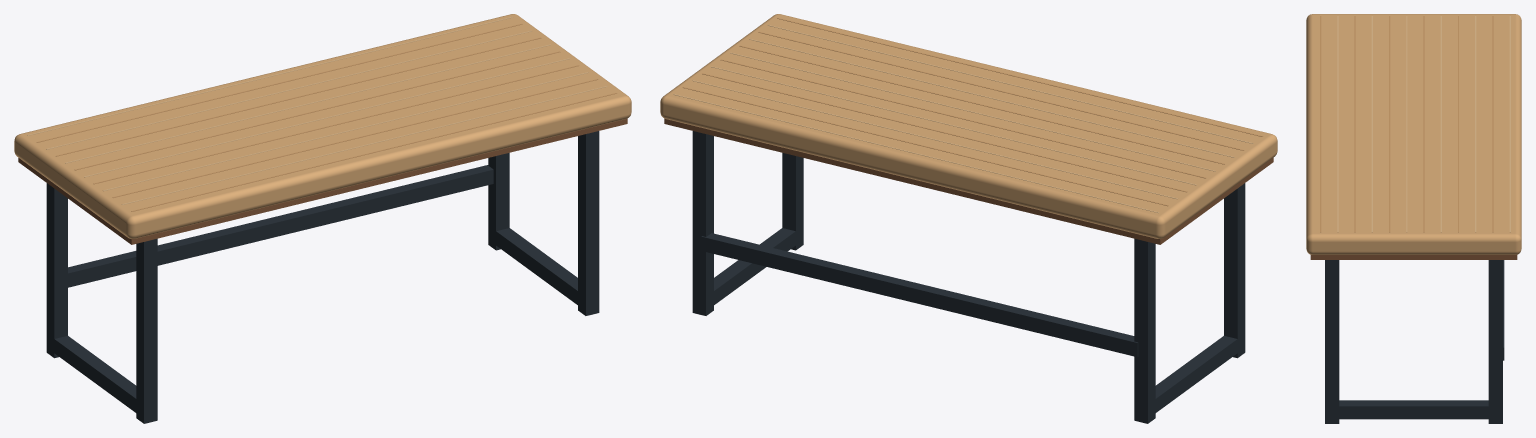
Rendered from desk.glb.
The picture shows the model from 3 angles, left to right: view 1: azimuth 30°, elevation 25°; view 2: azimuth 150°, elevation 25°; view 3: azimuth 270°, elevation 25°; orthographic projection. The views are drawn at different scales.
Size of the model in its own units: 3.7 by 1.53 by 1.5.
